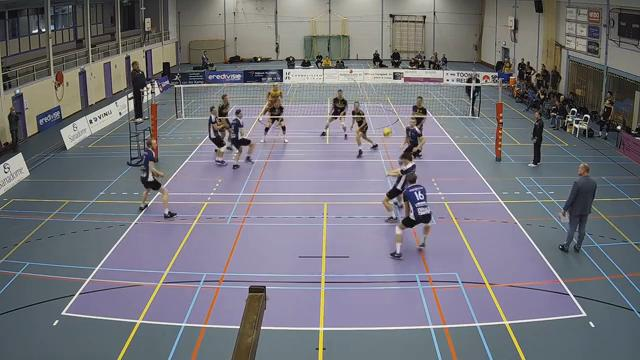Dig: (378, 148, 421, 226)
Player: (385, 167, 432, 260), (139, 139, 176, 218), (350, 102, 377, 157), (231, 109, 254, 168), (321, 90, 347, 139), (261, 98, 287, 142), (208, 106, 227, 166), (404, 118, 425, 157), (412, 96, 426, 130), (218, 94, 230, 128), (267, 83, 282, 108)
ball: (383, 128, 393, 139)
